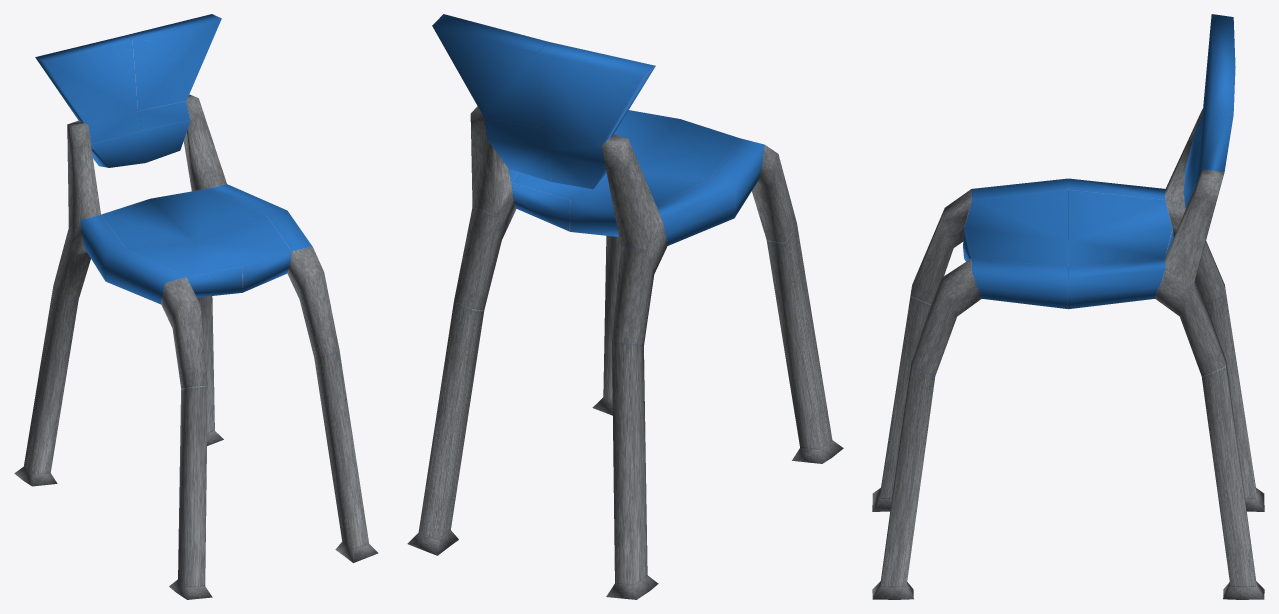
Rendered from breakroom_chair.fbx.
3 views of the same model, side by side, from view 1: azimuth 30°, elevation 25°; view 2: azimuth 150°, elevation 25°; view 3: azimuth 270°, elevation 25° (orthographic). The views are drawn at different scales.
Parts seen in each view (by area): view 1: chair; view 2: chair; view 3: chair.
Part boxes in pixels (x1,y1,x2,y2): chair: [14, 14, 378, 599]; chair: [407, 14, 843, 599]; chair: [872, 14, 1264, 599].
Bounding box in the file's own units: 59.09 × 126 × 91.95.
Materials: 1 (1 with a texture image).
